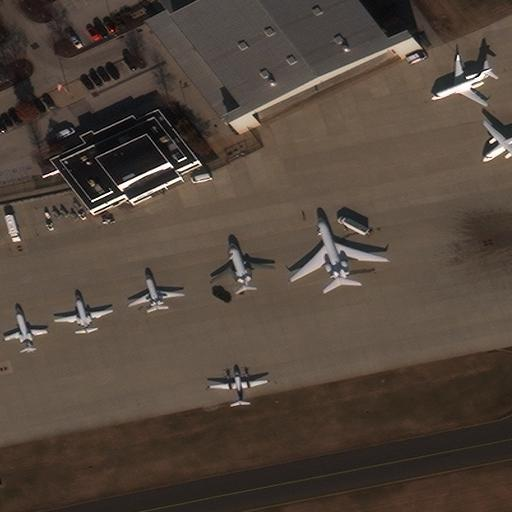Medium Civil Transport: (290, 217, 385, 285), (431, 54, 492, 106), (211, 242, 273, 290), (55, 295, 111, 334), (128, 274, 183, 309), (210, 371, 266, 405), (482, 121, 511, 164)
Small Civil Transport: (4, 306, 46, 352)
